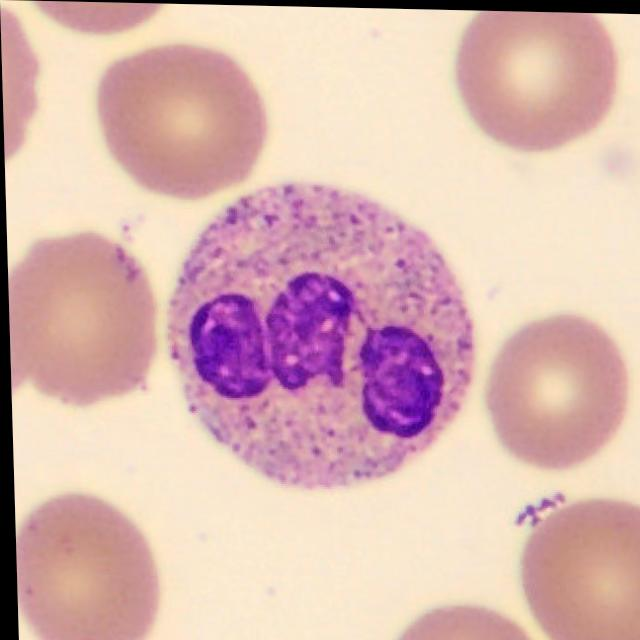Neutrofilo segmentado: (166, 179, 476, 488)
